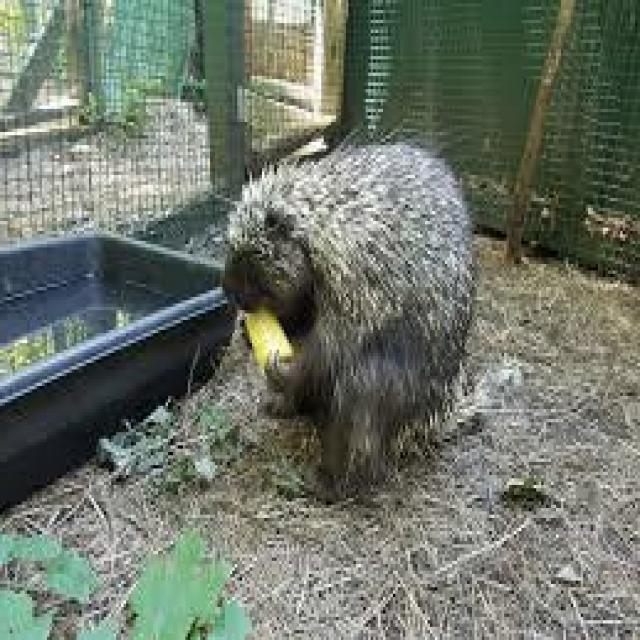porcupine: (225, 142, 472, 485)
